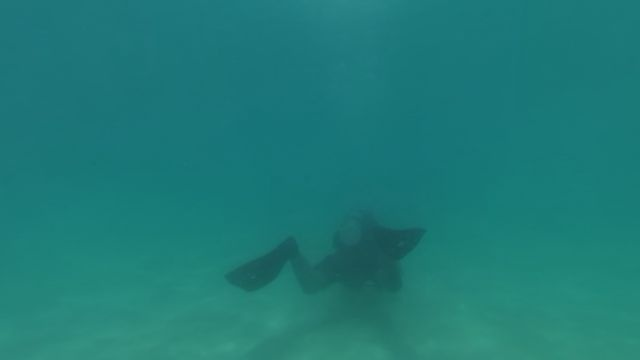Diver: (228, 214, 429, 300)
